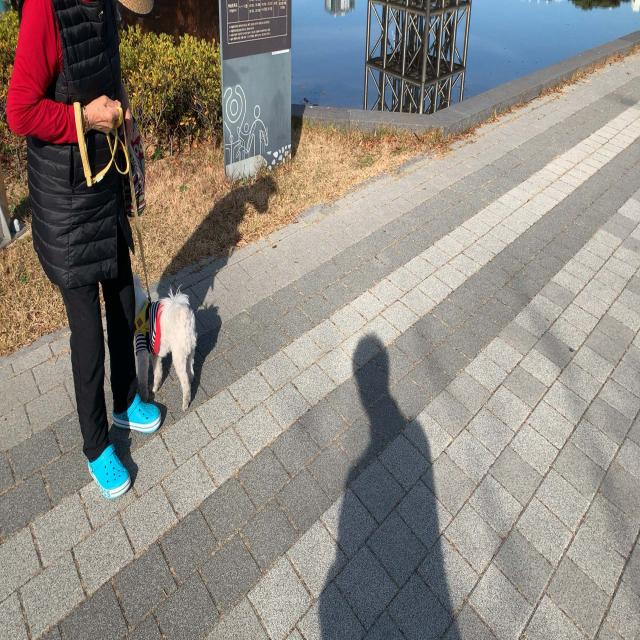Leashed_Dog: (108, 110, 197, 412)
